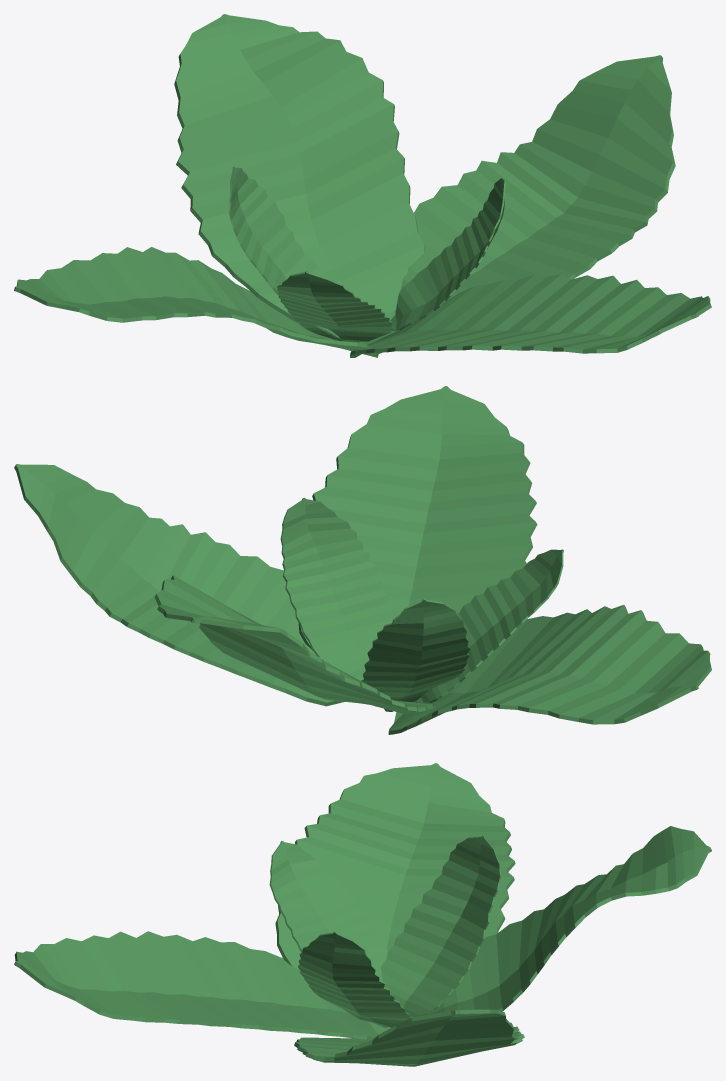
Rendered from mint.fbx.
The picture shows the model from 3 angles, top to bottom: view 1: azimuth 30°, elevation 25°; view 2: azimuth 150°, elevation 25°; view 3: azimuth 270°, elevation 25°; orthographic projection. The views are drawn at different scales.
Parts seen in each view (by area): view 1: Plane.002; view 2: Plane.002; view 3: Plane.002.
Boxes of the visible parts, x1,y1,x2,y2 form: Plane.002: (14, 14, 711, 357); Plane.002: (14, 386, 711, 734); Plane.002: (14, 763, 711, 1066).
Size of the model in its own units: 741 by 223 by 705.
